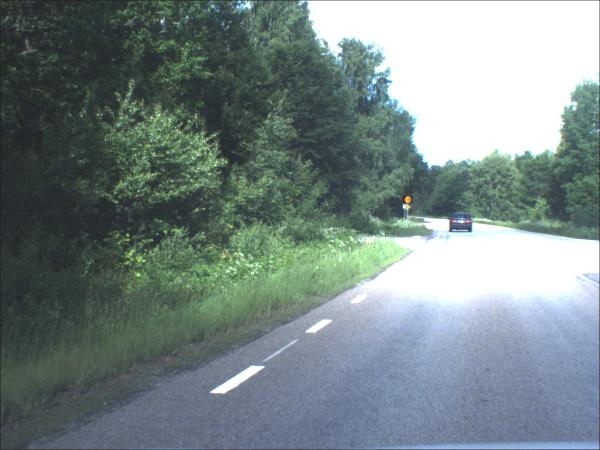80_SIGN: (403, 197, 414, 205)
PRIORITY_ROAD: (405, 206, 411, 212)
